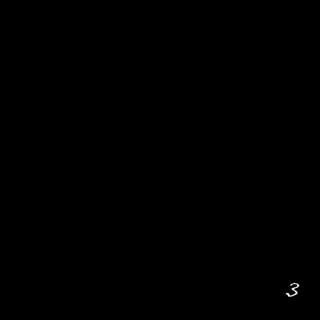three: (285, 280, 303, 300)
